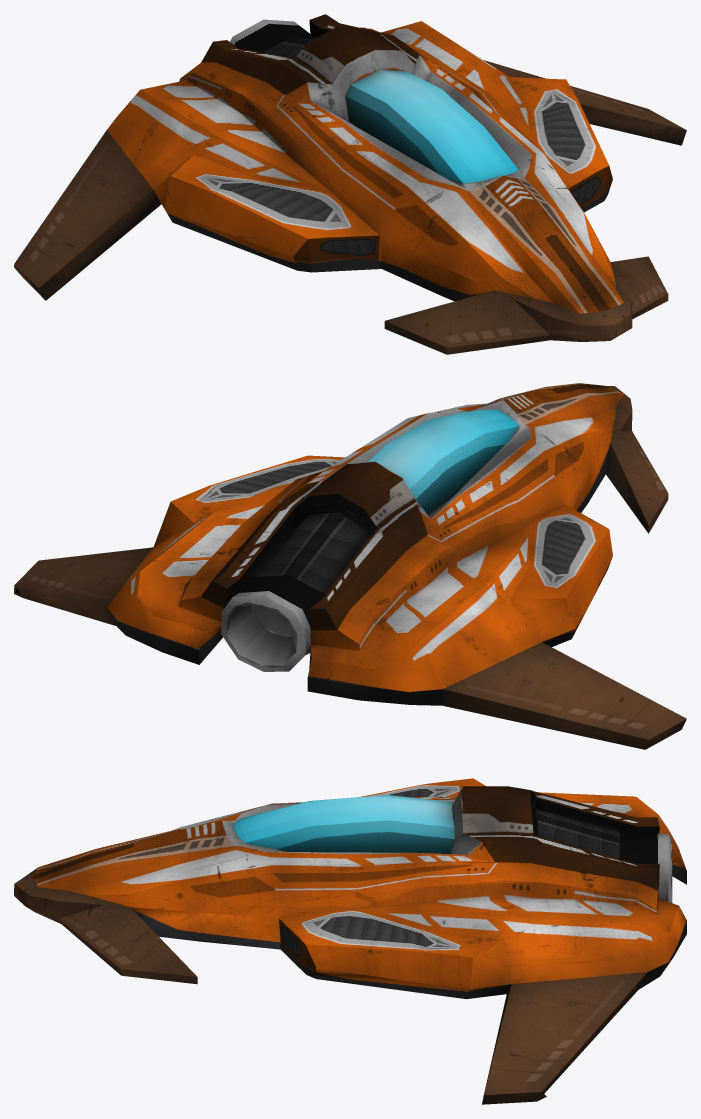
The model's file is egon.obj.
3 renders of one model, top to bottom at view 1: azimuth 30°, elevation 25°; view 2: azimuth 150°, elevation 25°; view 3: azimuth 270°, elevation 25°, orthographic. The views are drawn at different scales.
Parts seen in each view (by area): view 1: Body, Glass; view 2: Body, Glass, Engine; view 3: Body, Glass.
Part boxes in pixels (x1=…): Body: x1=14, y1=14, x2=686, y2=354; Glass: x1=345, y1=69, x2=518, y2=183; Body: x1=14, y1=383, x2=686, y2=749; Glass: x1=368, y1=409, x2=518, y2=513; Engine: x1=226, y1=605, x2=296, y2=665; Body: x1=14, y1=778, x2=686, y2=1104; Glass: x1=232, y1=795, x2=454, y2=854.
Bounding box in the file's own units: 2.17 × 0.5812 × 2.09.
